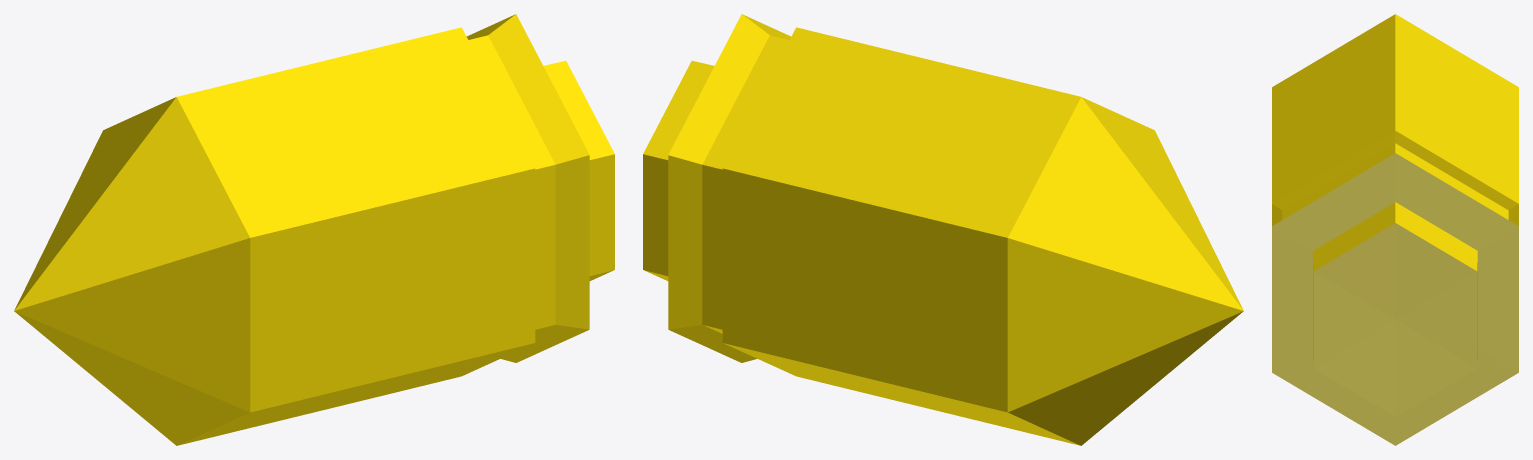
The model's file is bullet_casing.obj.
The picture shows the model from 3 angles, left to right: view 1: azimuth 30°, elevation 25°; view 2: azimuth 150°, elevation 25°; view 3: azimuth 270°, elevation 25°; orthographic projection. The views are drawn at different scales.
Parts seen in each view (by area): view 1: pCylinder1; view 2: pCylinder1; view 3: pCylinder1.
Part boxes in pixels (x1,y1,x2,y2): pCylinder1: (14, 14, 614, 445); pCylinder1: (643, 14, 1243, 445); pCylinder1: (1272, 14, 1518, 445).
Bounding box in the file's own units: 2.45 × 1.48 × 1.13.
